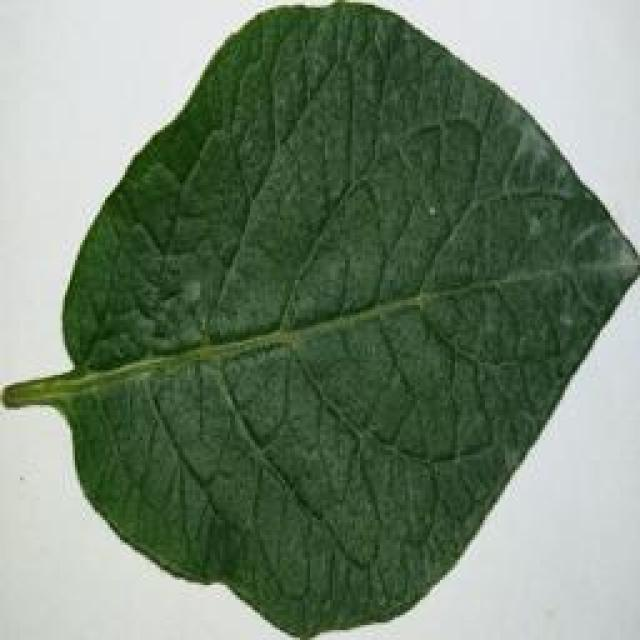Potato_Healthy: (4, 7, 630, 631)
